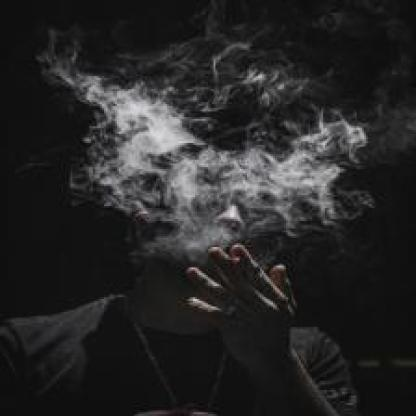Smoke: (55, 39, 402, 284)
